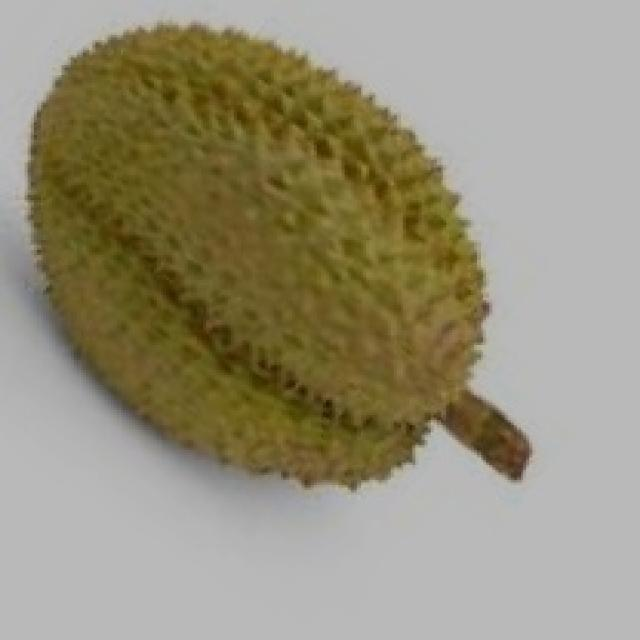fruit: (157, 185, 541, 540)
